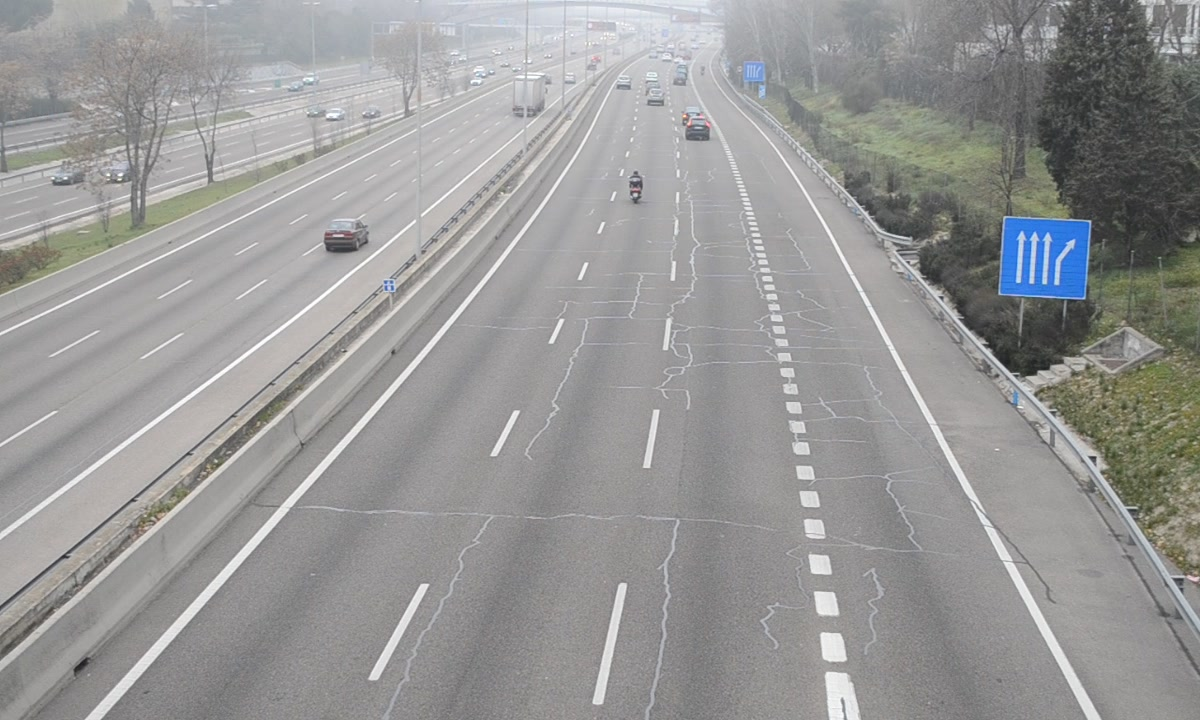car: (684, 115, 712, 142)
motorcycle: (628, 170, 644, 207)
